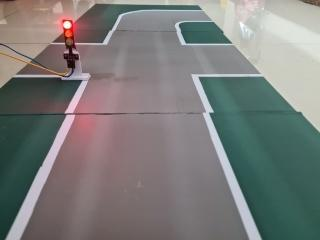red: (55, 17, 84, 58)
